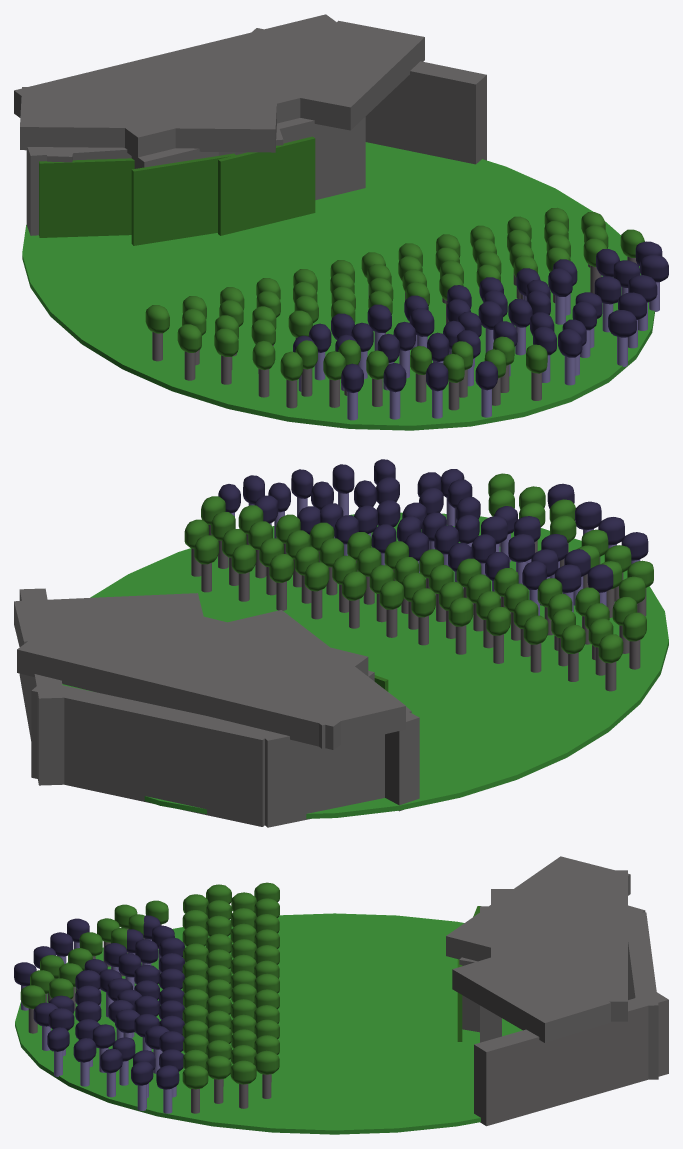
The model's file is map1.glb.
The picture shows the model from 3 angles, top to bottom: view 1: azimuth 30°, elevation 25°; view 2: azimuth 150°, elevation 25°; view 3: azimuth 270°, elevation 25°; orthographic projection. The views are drawn at different scales.
Visible parts, largest first — view 1: Box (×11), Cylinder, Capsule (×3); view 2: Box (×9), Cylinder, Capsule (×30); view 3: Box (×9), Cylinder, Capsule (×24).
Part boxes in pixels (<box>): Box (×11): <box>14,14,486,245</box>; Cylinder: <box>22,142,654,430</box>; Capsule (×3): <box>594,254,668,337</box>; Box (×9): <box>14,588,419,827</box>; Cylinder: <box>62,512,668,818</box>; Capsule (×30): <box>194,464,648,663</box>; Box (×9): <box>446,856,668,1126</box>; Cylinder: <box>15,913,522,1134</box>; Capsule (×24): <box>20,915,279,1089</box>.
Bounding box in the file's own units: 111 × 21.79 × 142.
